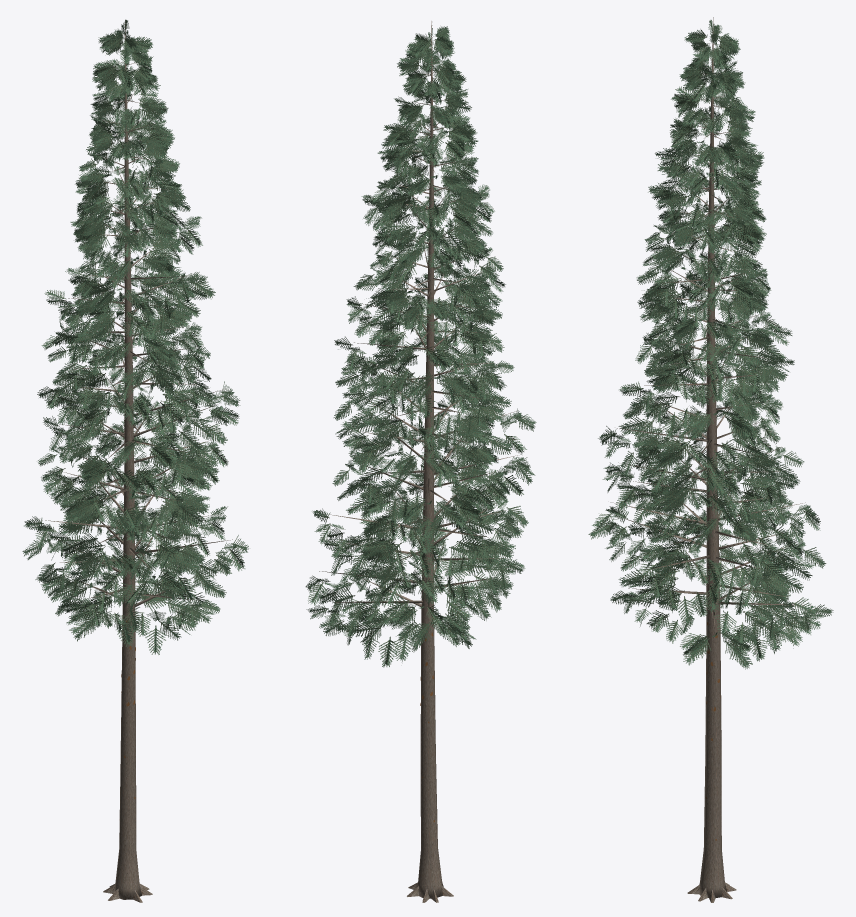
Rendered from Sitka_Mature_Benchmark_01_MediumPruned_Recent_LOD2.fbx.
3 renders of one model, left to right at view 1: azimuth 30°, elevation 25°; view 2: azimuth 150°, elevation 25°; view 3: azimuth 270°, elevation 25°, orthographic.
Parts seen in each view (by area): view 1: Sitka_Mature_Benchmark_01_MediumPruned_Recent_LOD2_Foliage, Sitka_Mature_Benchmark_01_MediumPruned_Recent_LOD2_Trunk, Sitka_Mature_Benchmark_01_MediumPruned_Recent_LOD2_Branches; view 2: Sitka_Mature_Benchmark_01_MediumPruned_Recent_LOD2_Foliage, Sitka_Mature_Benchmark_01_MediumPruned_Recent_LOD2_Trunk, Sitka_Mature_Benchmark_01_MediumPruned_Recent_LOD2_Branches; view 3: Sitka_Mature_Benchmark_01_MediumPruned_Recent_LOD2_Foliage, Sitka_Mature_Benchmark_01_MediumPruned_Recent_LOD2_Trunk, Sitka_Mature_Benchmark_01_MediumPruned_Recent_LOD2_Branches.
Boxes of the visible parts, left/top/right/bottom form: Sitka_Mature_Benchmark_01_MediumPruned_Recent_LOD2_Foliage: left=22, top=19, right=248, bottom=654; Sitka_Mature_Benchmark_01_MediumPruned_Recent_LOD2_Trunk: left=103, top=20, right=152, bottom=902; Sitka_Mature_Benchmark_01_MediumPruned_Recent_LOD2_Branches: left=42, top=34, right=232, bottom=606; Sitka_Mature_Benchmark_01_MediumPruned_Recent_LOD2_Foliage: left=305, top=25, right=536, bottom=667; Sitka_Mature_Benchmark_01_MediumPruned_Recent_LOD2_Trunk: left=407, top=21, right=453, bottom=902; Sitka_Mature_Benchmark_01_MediumPruned_Recent_LOD2_Branches: left=319, top=36, right=517, bottom=611; Sitka_Mature_Benchmark_01_MediumPruned_Recent_LOD2_Foliage: left=588, top=20, right=833, bottom=669; Sitka_Mature_Benchmark_01_MediumPruned_Recent_LOD2_Trunk: left=687, top=17, right=736, bottom=902; Sitka_Mature_Benchmark_01_MediumPruned_Recent_LOD2_Branches: left=610, top=43, right=811, bottom=628.
Size of the model in its own units: 647 by 2600 by 713.
3 materials, 3 textured.
